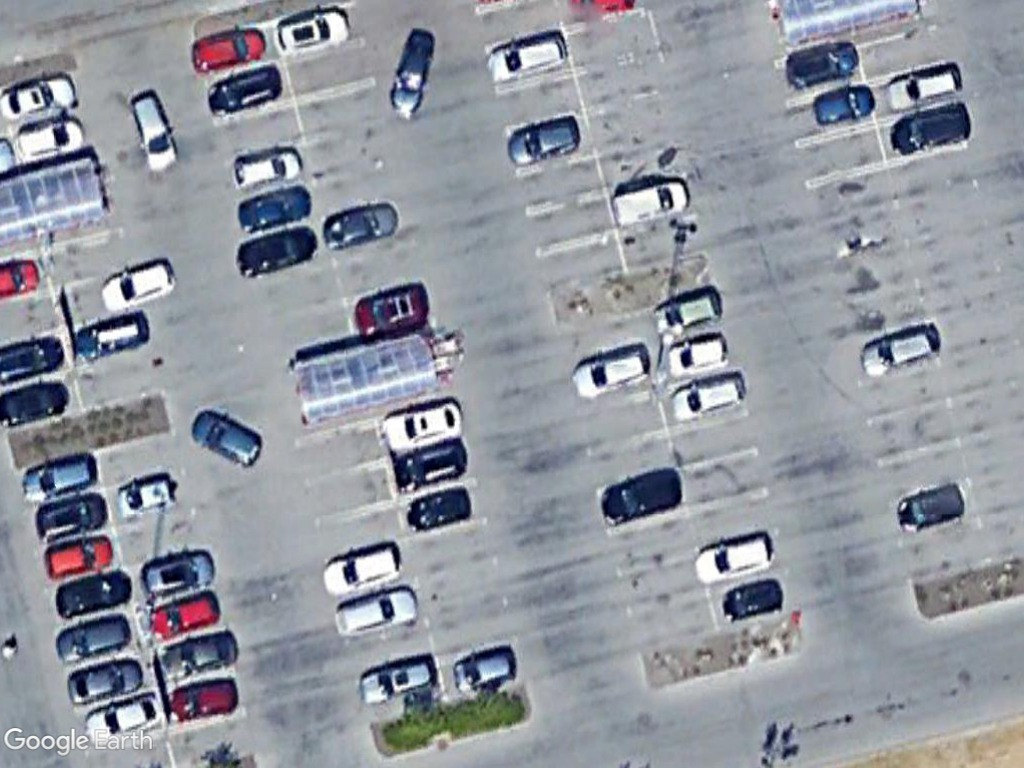car: (315, 534, 404, 603), (329, 580, 423, 643), (853, 320, 949, 381), (382, 434, 473, 498), (378, 394, 468, 457), (596, 464, 684, 528), (232, 220, 322, 282), (97, 250, 180, 316), (691, 528, 783, 587), (141, 586, 226, 649), (886, 101, 976, 160), (68, 306, 152, 369), (186, 405, 266, 471), (348, 279, 431, 342), (202, 61, 286, 123), (18, 445, 98, 510), (879, 58, 968, 116), (315, 196, 401, 255), (666, 366, 752, 424), (127, 90, 185, 176), (569, 342, 652, 402), (31, 485, 111, 547), (137, 543, 222, 601), (608, 173, 694, 230), (384, 24, 434, 121), (51, 564, 133, 623), (357, 649, 437, 709), (0, 65, 81, 124), (63, 653, 144, 712), (483, 30, 569, 85), (53, 611, 134, 669), (186, 20, 271, 75), (501, 111, 580, 170), (272, 4, 354, 60), (159, 624, 240, 680), (226, 140, 306, 196), (892, 478, 970, 535), (233, 180, 315, 234), (404, 478, 479, 537), (11, 113, 87, 171), (780, 40, 863, 91), (652, 283, 724, 341), (41, 528, 119, 581), (166, 673, 240, 725), (448, 644, 520, 697), (662, 329, 731, 382), (807, 81, 879, 131), (715, 574, 785, 624), (113, 469, 179, 521)
